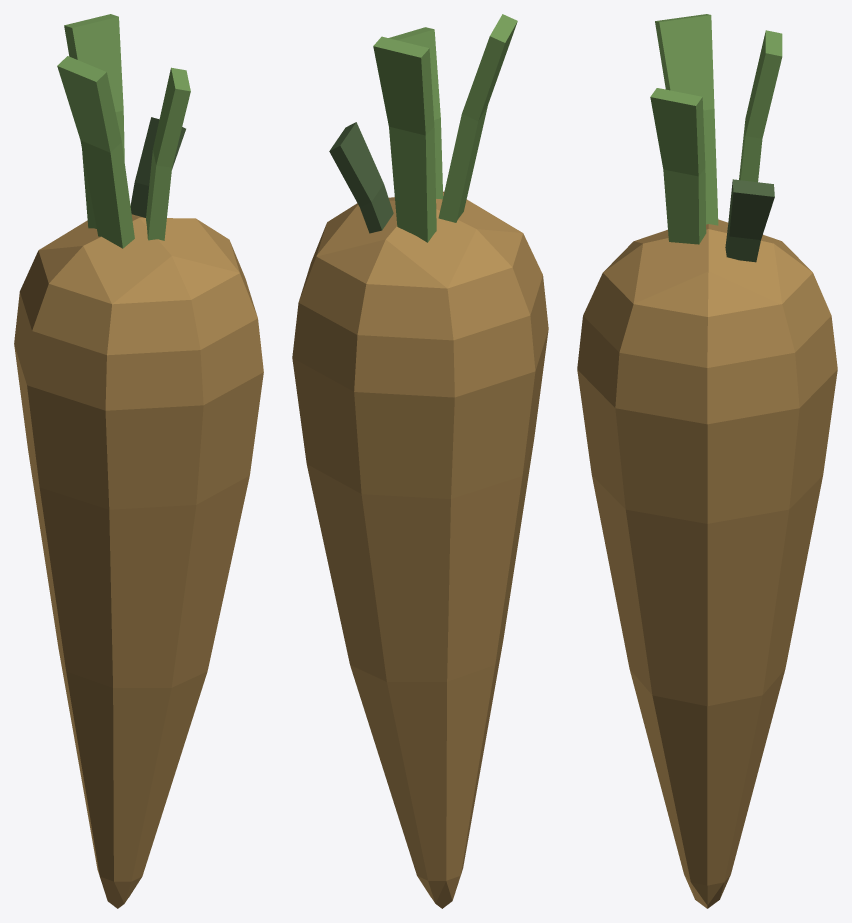
File: Carrot_Crop.gltf
3 views of the same model, side by side, from view 1: azimuth 30°, elevation 25°; view 2: azimuth 150°, elevation 25°; view 3: azimuth 270°, elevation 25° (orthographic). The views are drawn at different scales.
Parts seen in each view (by area): view 1: Carrot_Crop; view 2: Carrot_Crop; view 3: Carrot_Crop.
Part boxes in pixels (left/top/right/bottom): Carrot_Crop: left=14, top=14, right=263, bottom=908; Carrot_Crop: left=292, top=14, right=548, bottom=908; Carrot_Crop: left=577, top=14, right=837, bottom=908.
Bounding box in the file's own units: 0.239 × 0.8809 × 0.239.
